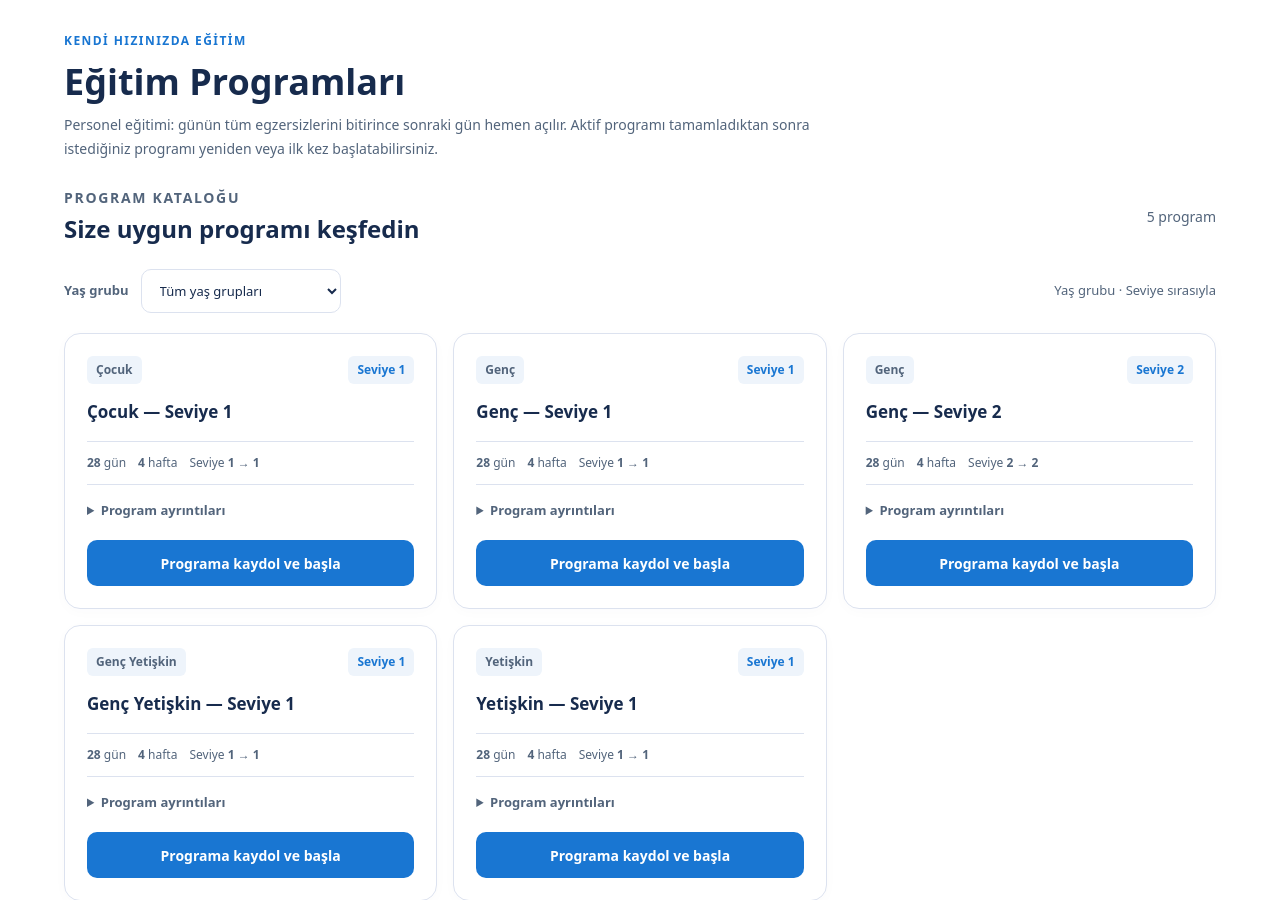
Test case: Staff training programs › sorts by age and level and filters without mixing young adults with adults
Select "Genç" in the dropdown labelled "Yaş grubu" at (241, 291), box [141,269,341,313]
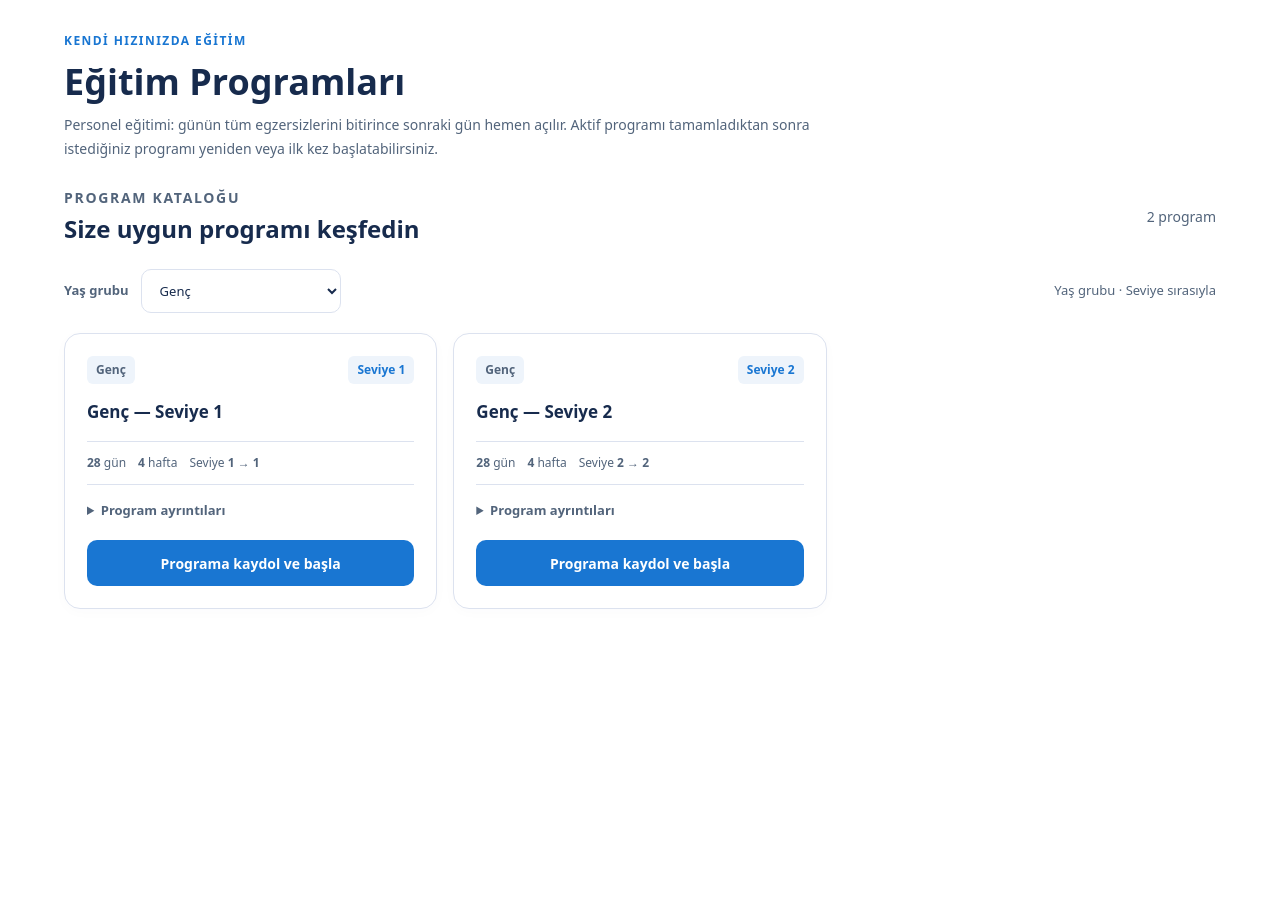
Select "Yetişkin" in the dropdown labelled "Yaş grubu" at (241, 291), box [141,269,341,313]
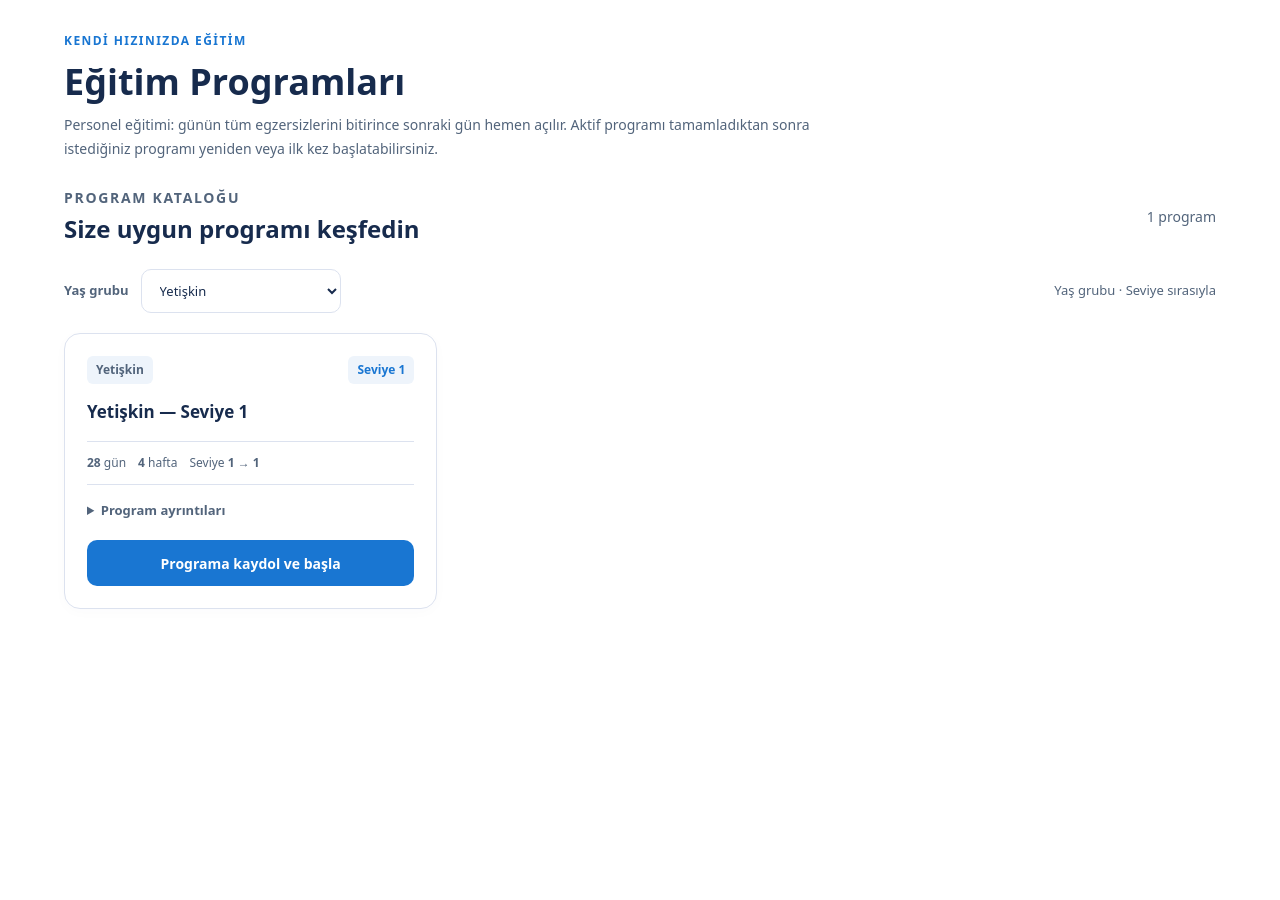
Expected: the text with class "age-badge" reads "Yetişkin", [96,361,144,378]
